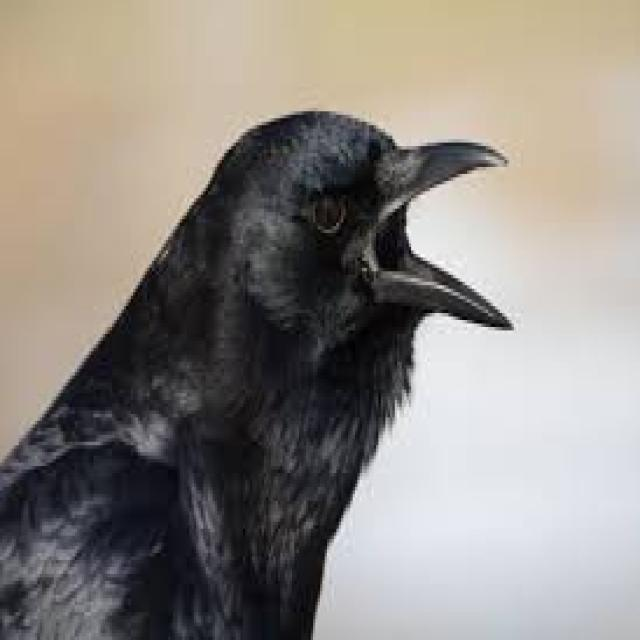crow: (164, 98, 508, 445)
